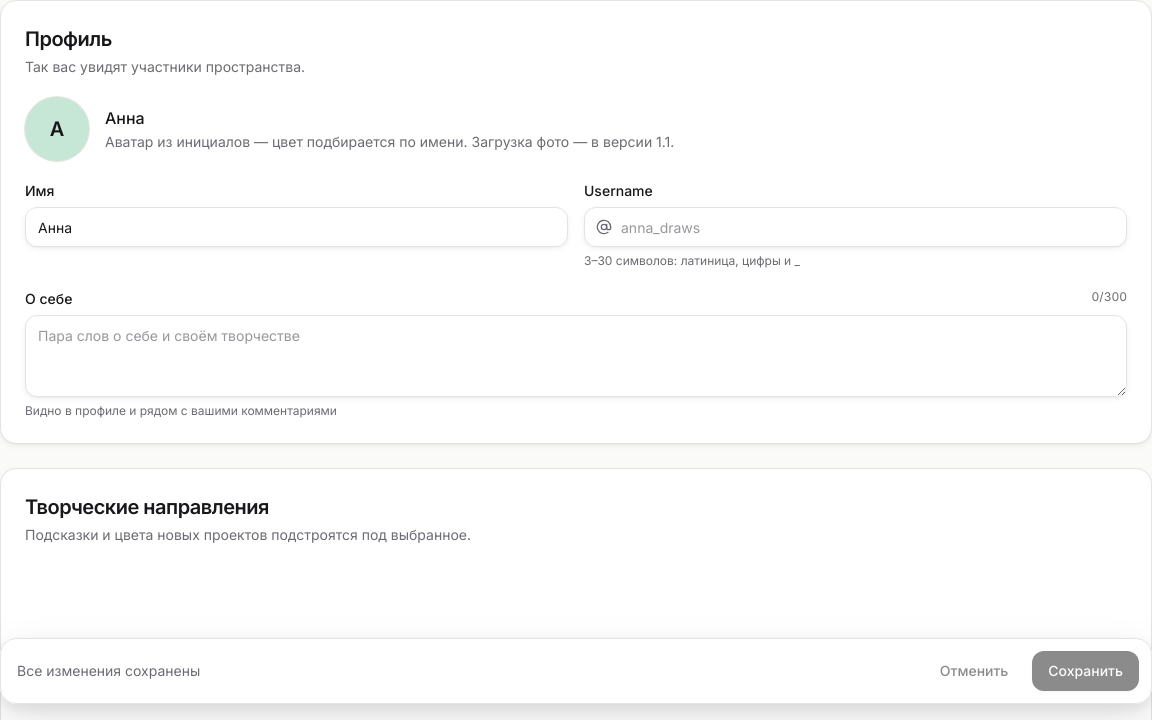
Test: Настройки → Профиль › неверный формат username проверяется ещё до отправки
In the field labelled "Username": (856, 227) [584,207,1127,247], type "анна"
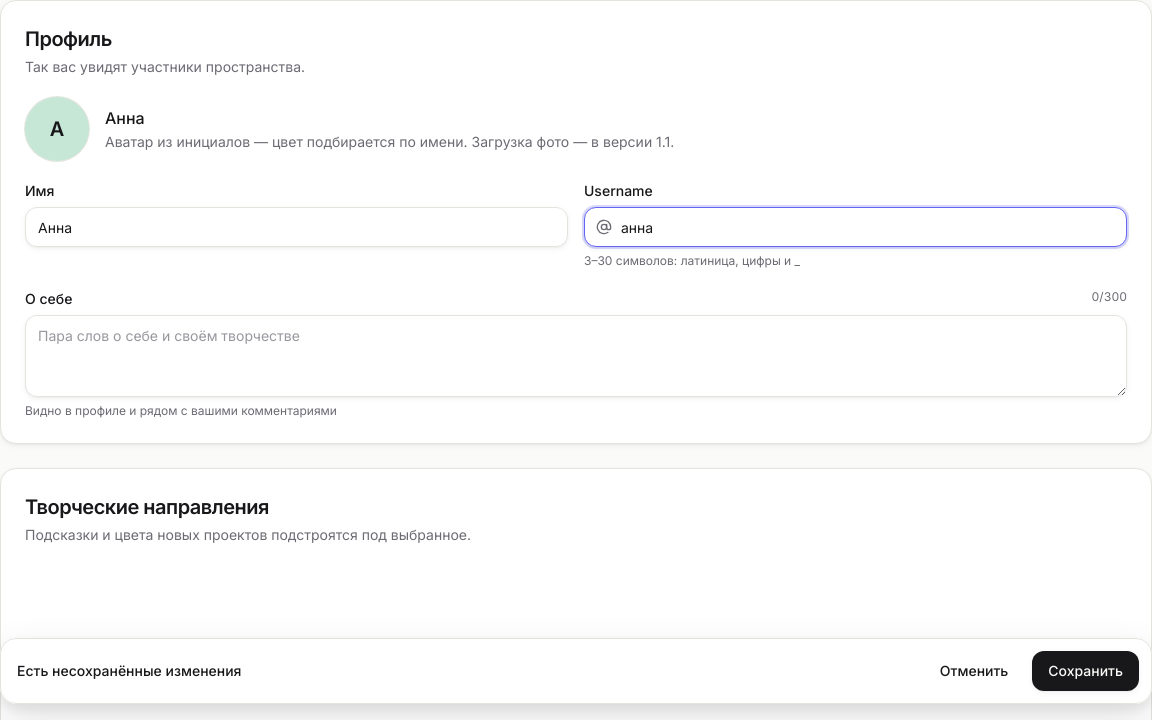
Click the button "Сохранить": (1086, 671) [1032,651,1139,691]
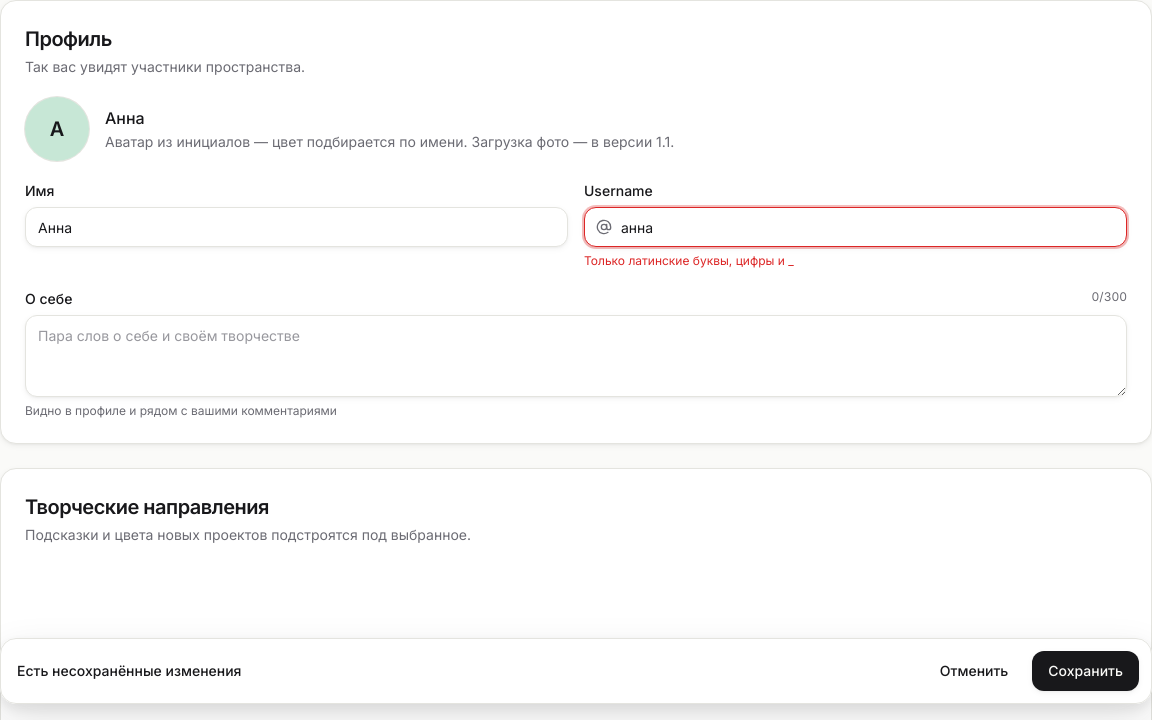
Check: the text "Только латинские буквы, цифры и _" is shown, box [584,253,794,268]
